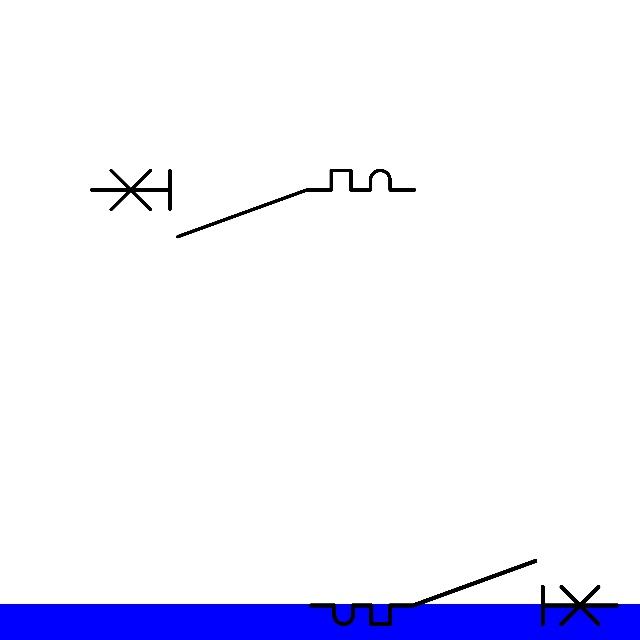interruptor_termomagnetico: (83, 162, 423, 245), (303, 553, 625, 632)
